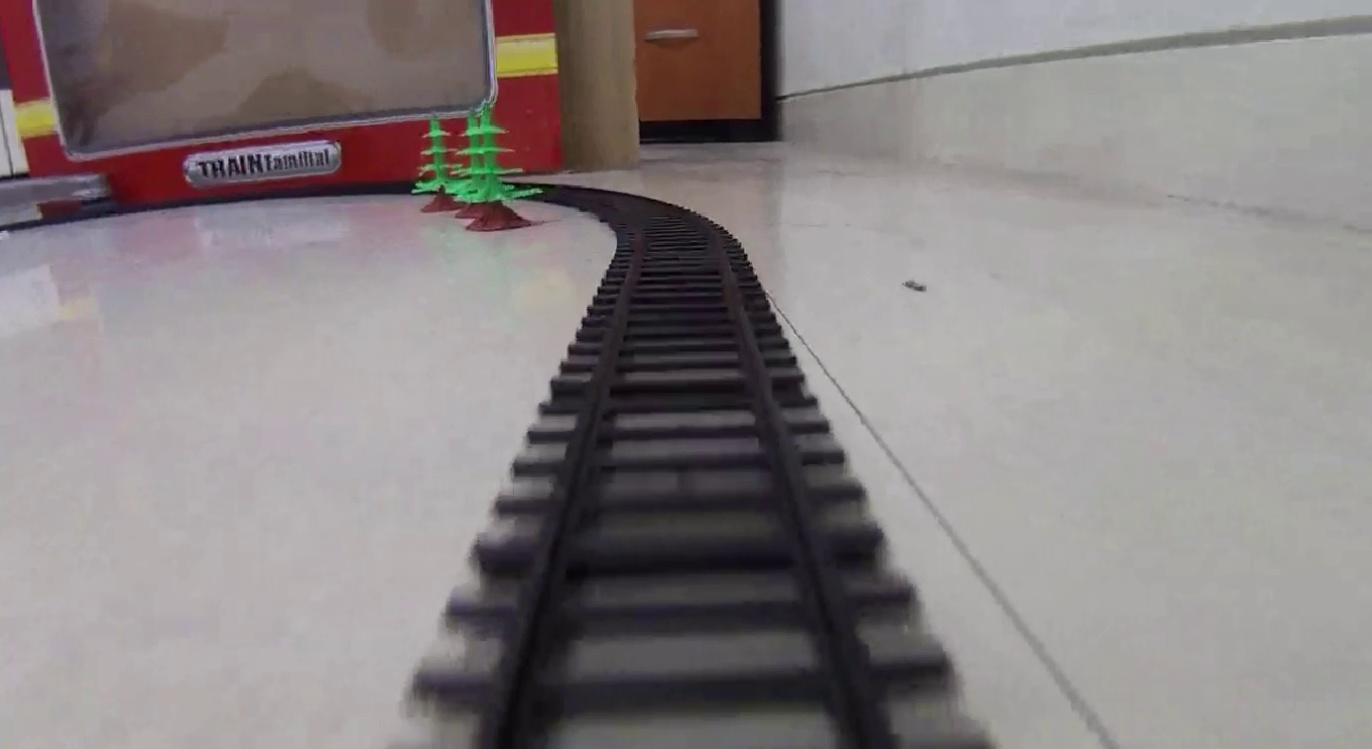tree: (463, 103, 532, 229), (413, 117, 458, 212)
